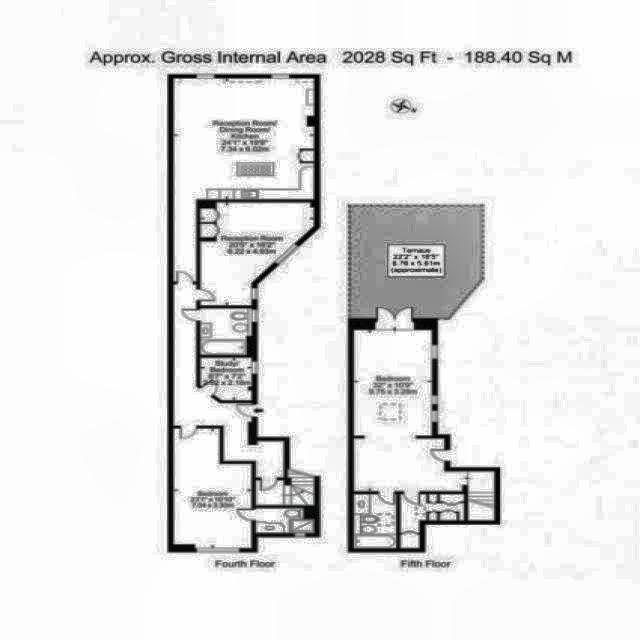room: (113, 274, 301, 513), (172, 78, 315, 282), (354, 329, 496, 520), (200, 202, 315, 305), (173, 428, 252, 548), (401, 494, 464, 548), (200, 308, 252, 355), (354, 493, 397, 548), (200, 357, 252, 401), (256, 478, 315, 506), (256, 507, 315, 534)
